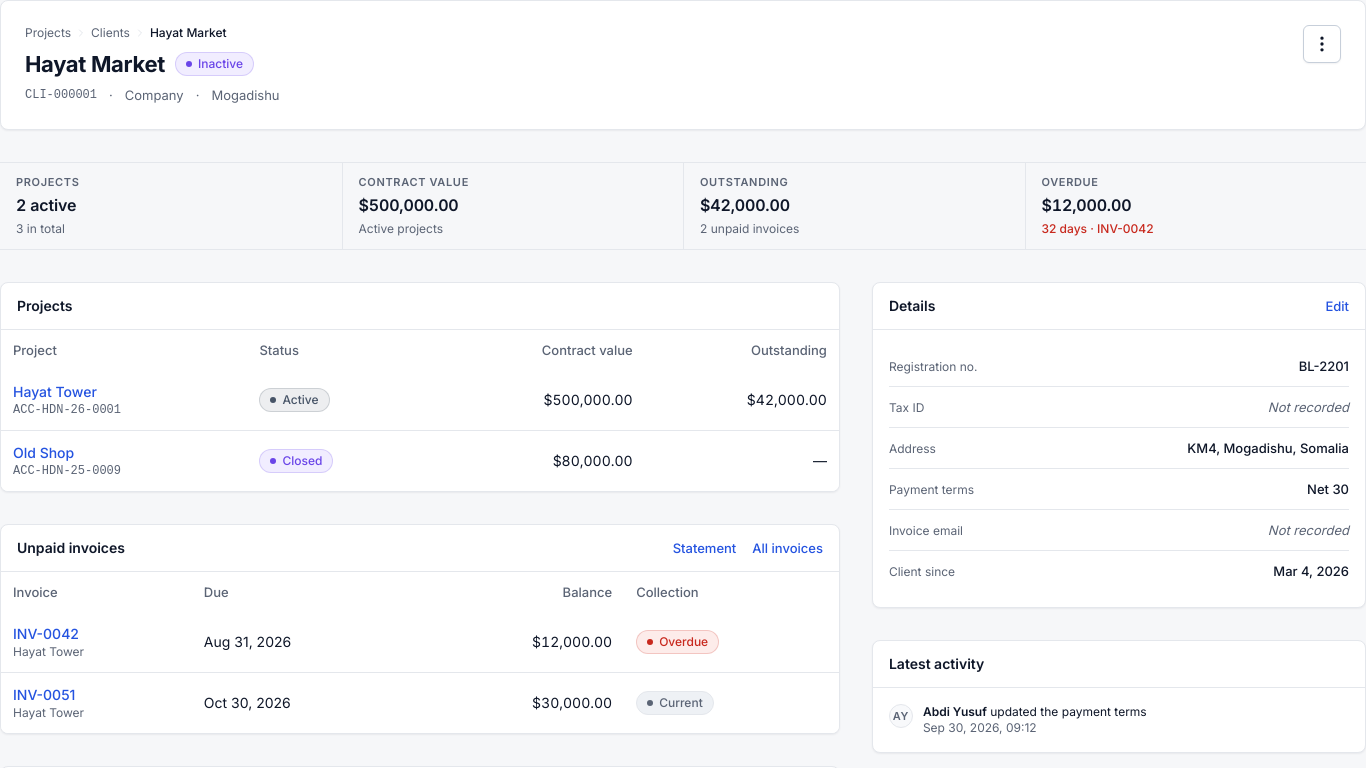
ClientRecord — header › offers Reactivate for an inactive client, and no new project
This screenshot has width=1366, height=768.
Expected: the heading "Hayat Market" is shown, [25,49,165,79]
Click the button named "More actions": (1322, 44) [1303,25,1341,63]
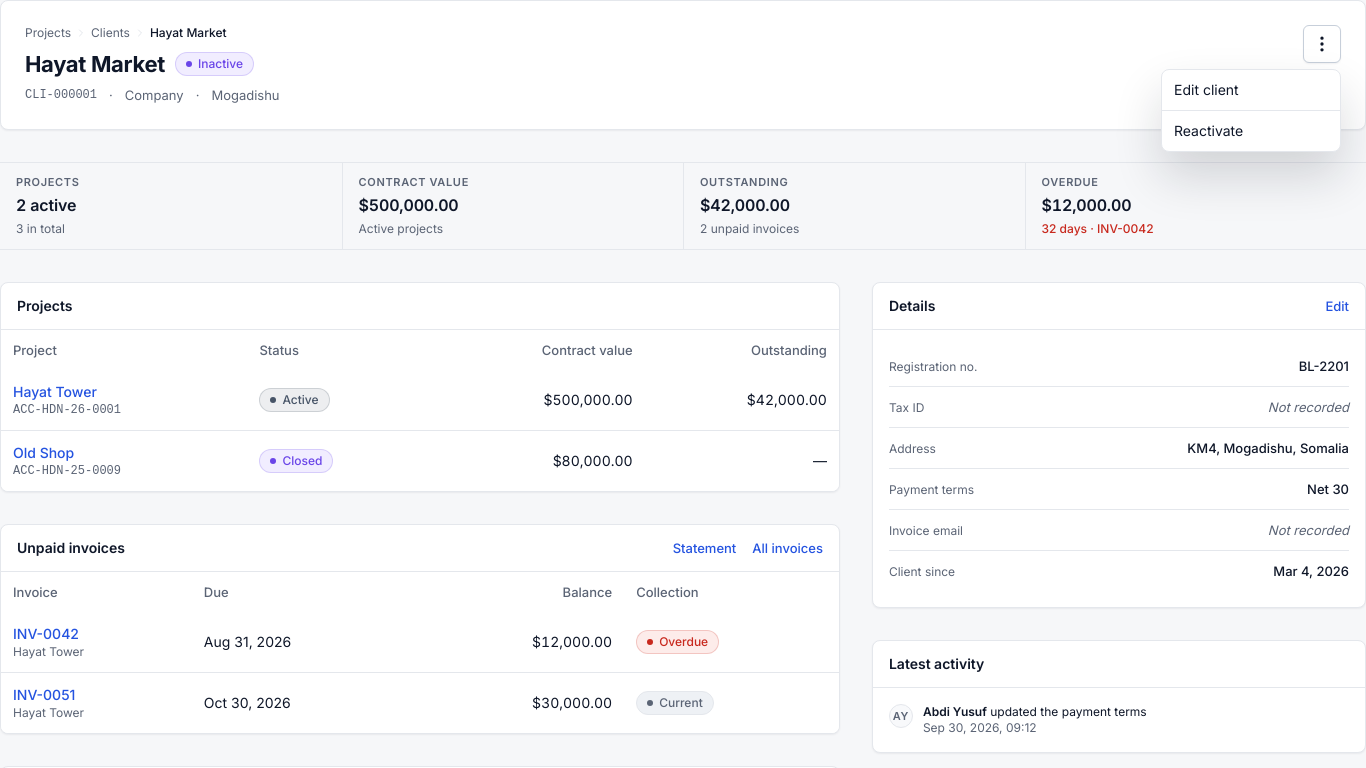
Now the menu item "Reactivate" is shown, box [1174,122,1243,139]
